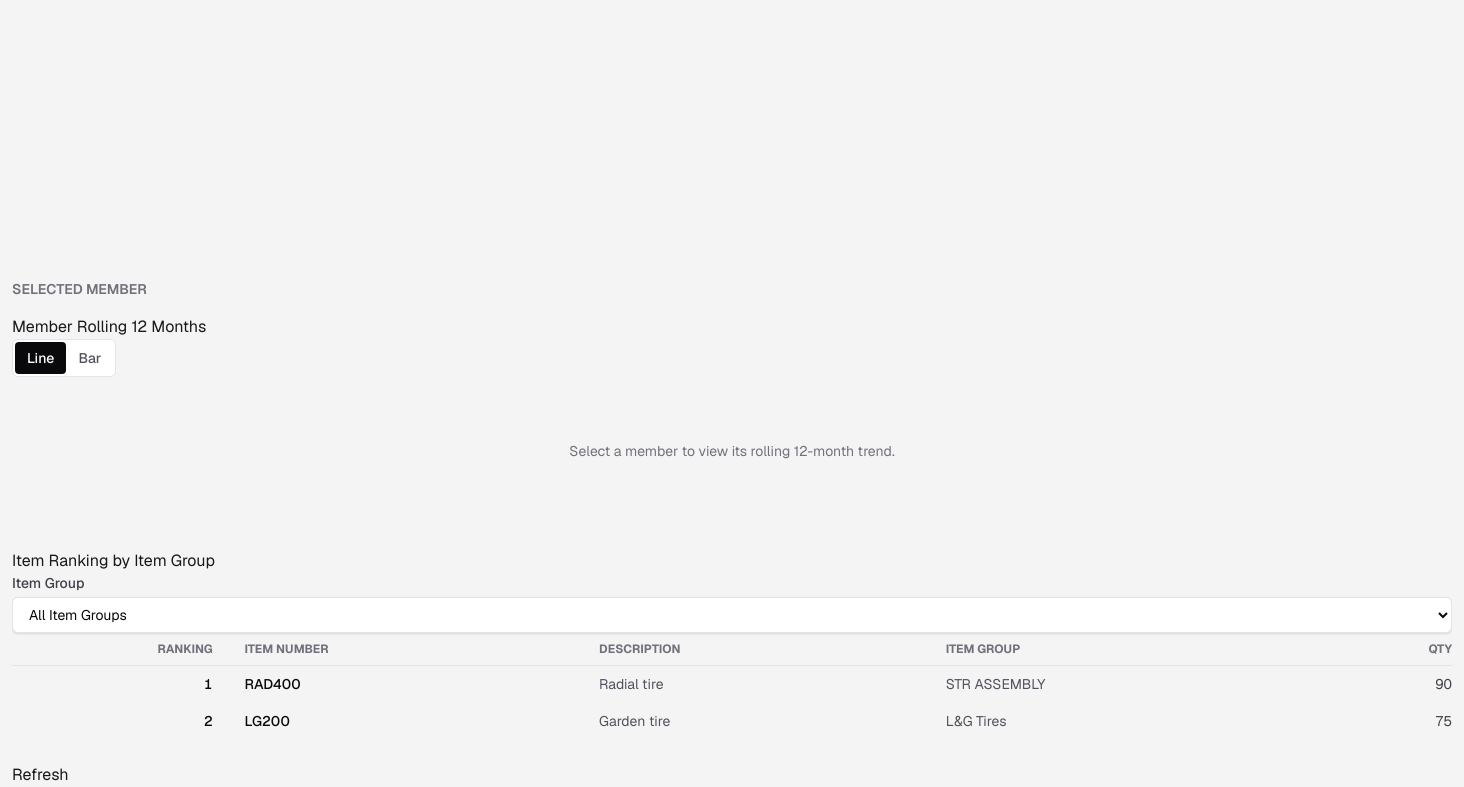
Test: MidstateDashboard › shows item ranking by item group without the rolling table
This screenshot has width=1464, height=787.
(page scrolled)
Check: the text "RAD400" is shown, box x1=228 y1=666 x2=583 y2=702
Check: the text "Radial tire" is shown, box x1=583 y1=666 x2=930 y2=702
Step 1. Select "L&G Tires" in the dropdown labelled "Item Group" → (732, 615), box x1=12 y1=597 x2=1452 y2=633
(page scrolled)
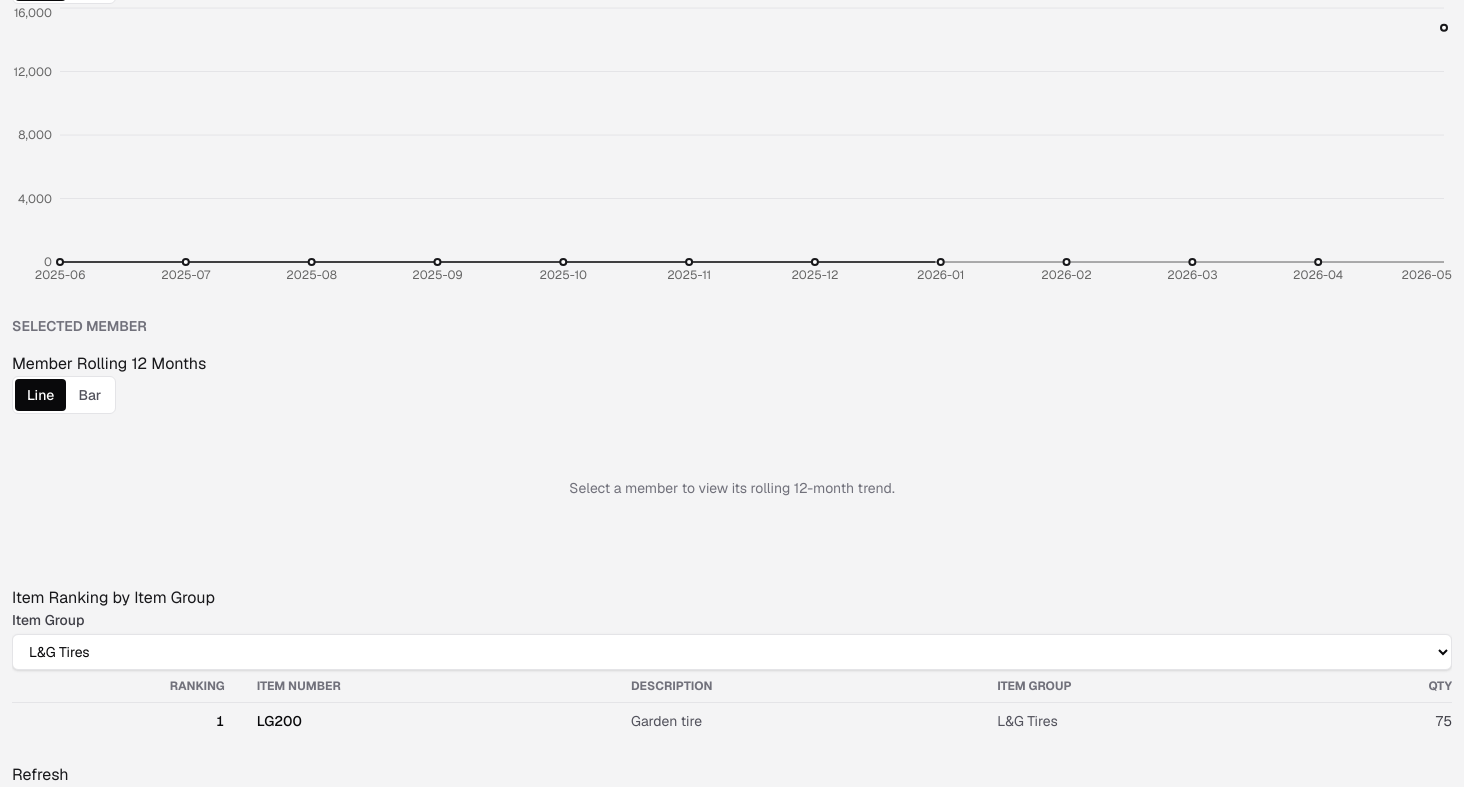
Check: the row "1 LG200 Garden tire L&G Tires 75" is shown, box x1=12 y1=702 x2=1452 y2=739
Check: the text "RAD400" is gone
